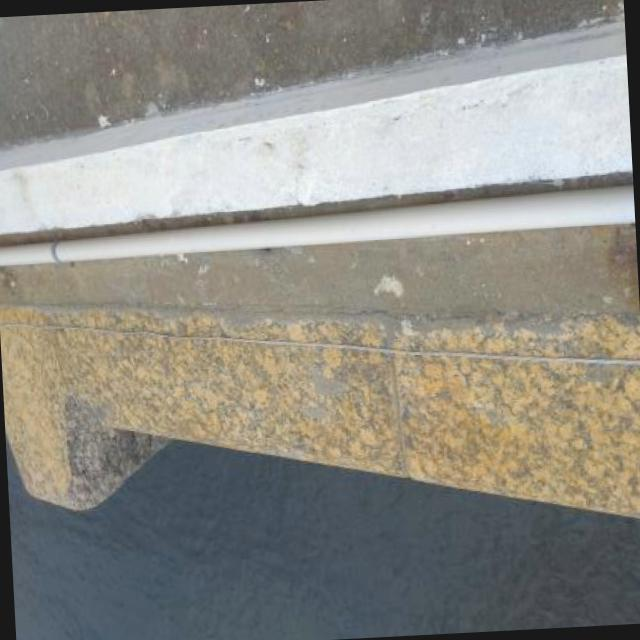gas: (0, 190, 635, 264)
